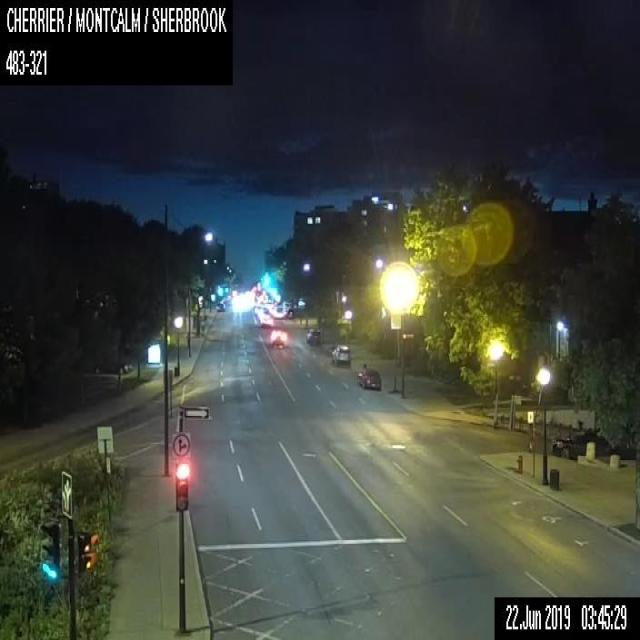vehicle: (552, 430, 612, 459), (356, 365, 381, 388), (94, 360, 130, 374), (331, 344, 350, 364), (268, 330, 286, 348), (305, 327, 321, 342), (257, 313, 272, 326), (273, 305, 284, 318), (215, 300, 224, 311)
